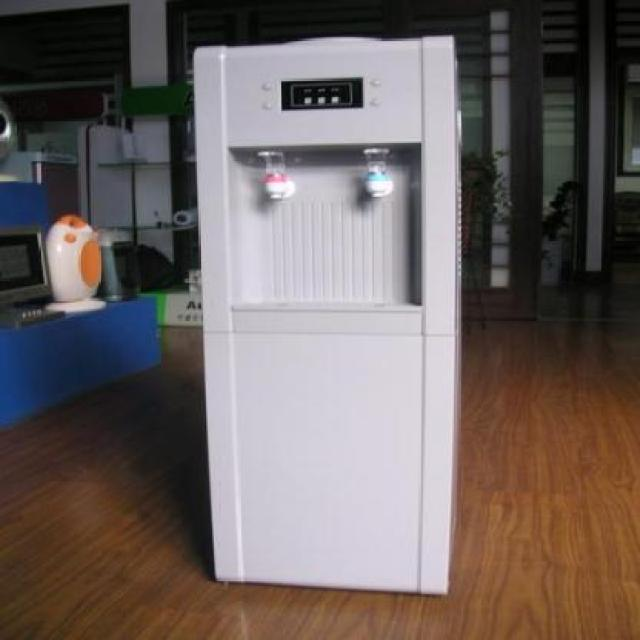cooler: (191, 34, 464, 599)
